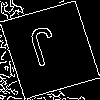J: (25, 25, 65, 76)
